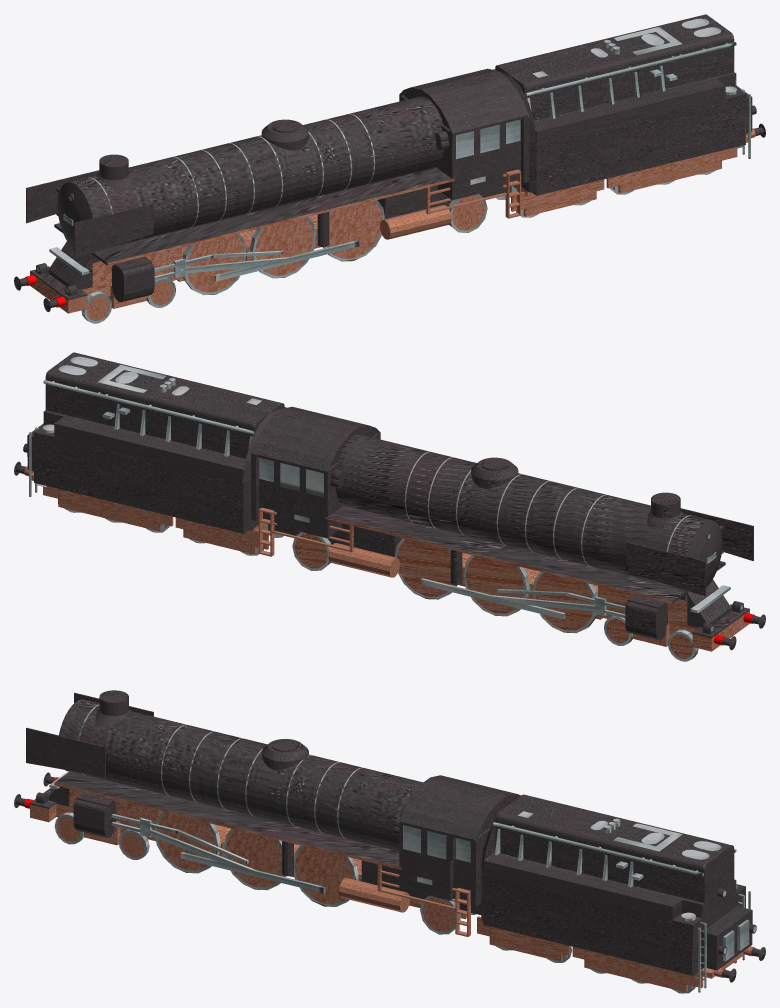
File: GMLID_0574825_29536_285.dae
3 views of the same model, one above another, from view 1: azimuth 30°, elevation 25°; view 2: azimuth 150°, elevation 25°; view 3: azimuth 330°, elevation 25° (orthographic).
Size of the model in its own units: 31.75 by 4.06 by 6.17.
Materials: 2 (1 with a texture image).
